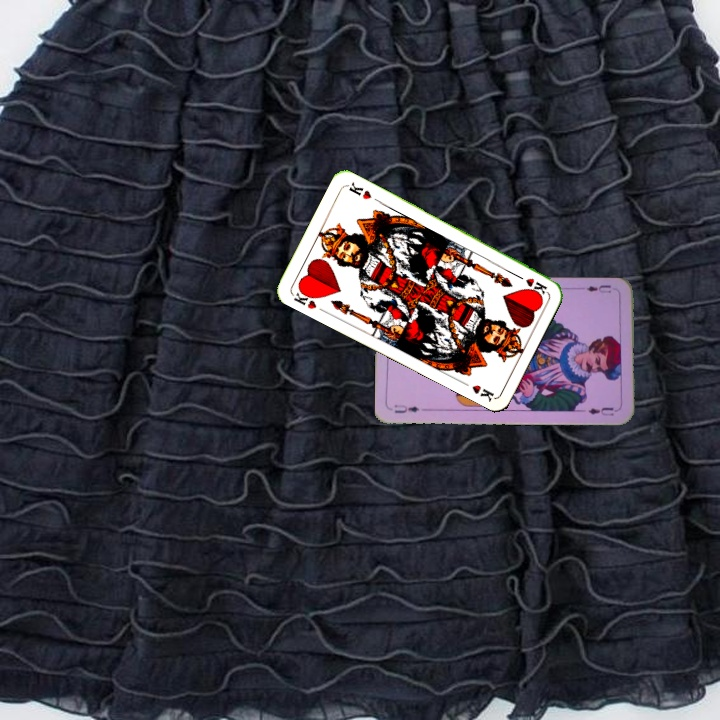EU: (583, 281, 619, 295), (391, 401, 421, 415)
HK: (511, 270, 550, 296), (289, 284, 320, 312)
